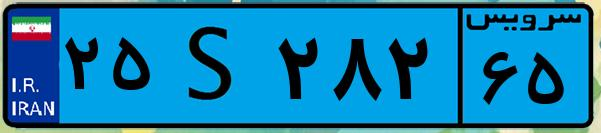2: (270, 28, 330, 110), (385, 28, 445, 110), (57, 26, 110, 100)
5: (525, 38, 570, 115), (110, 28, 158, 98)
6: (475, 38, 525, 113)
8: (330, 28, 385, 110)
S: (158, 12, 270, 120)
